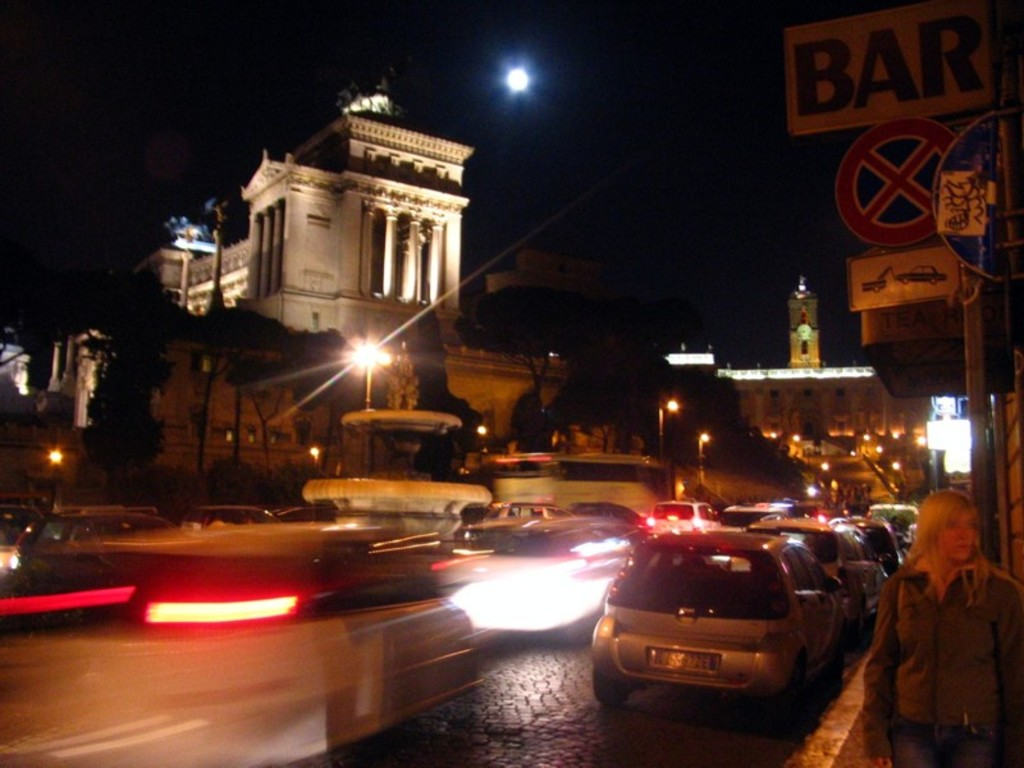Car: (0, 458, 925, 704)
